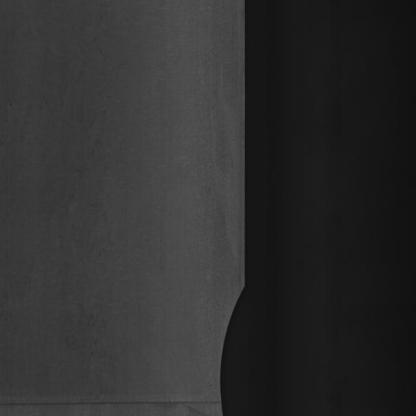crescent_gap: (216, 278, 264, 416)
welding_line: (0, 387, 224, 414)
